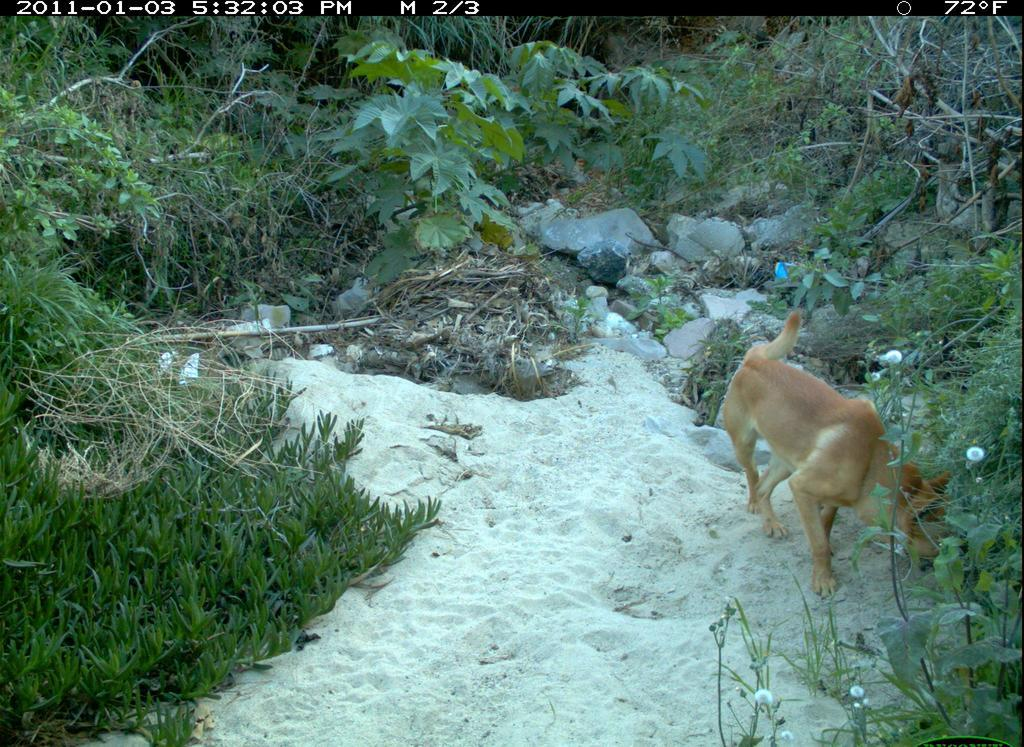dog: (712, 308, 963, 607)
